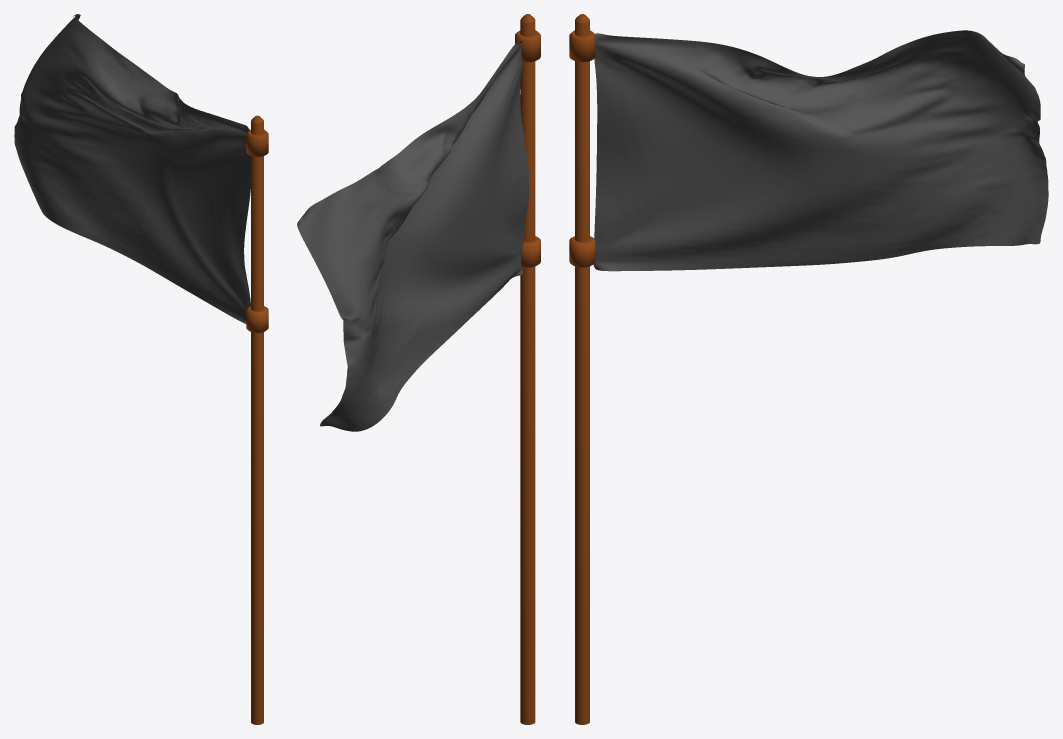
Rendered from flag.glb.
3 views of the same model, side by side, from view 1: azimuth 30°, elevation 25°; view 2: azimuth 150°, elevation 25°; view 3: azimuth 270°, elevation 25° (orthographic). The views are drawn at different scales.
Parts seen in each view (by area): view 1: Plane_6, Cylinder_2, Cylinder.001_3, Cylinder.002_4; view 2: Plane_6, Cylinder_2, Cylinder.001_3, Cylinder.002_4; view 3: Plane_6, Cylinder_2.
Boxes of the visible parts, x1,y1,x2,y2 form: Plane_6: (14,14,250,323); Cylinder_2: (251,115,263,724); Cylinder.001_3: (246,129,268,156); Cylinder.002_4: (246,306,268,332); Plane_6: (297,40,529,431); Cylinder_2: (520,14,535,724); Cylinder.001_3: (515,30,540,62); Cylinder.002_4: (521,236,540,267); Plane_6: (593,30,1048,271); Cylinder_2: (575,14,589,724).
Bounding box in the file's own units: 0.6126 × 5.93 × 3.64.
